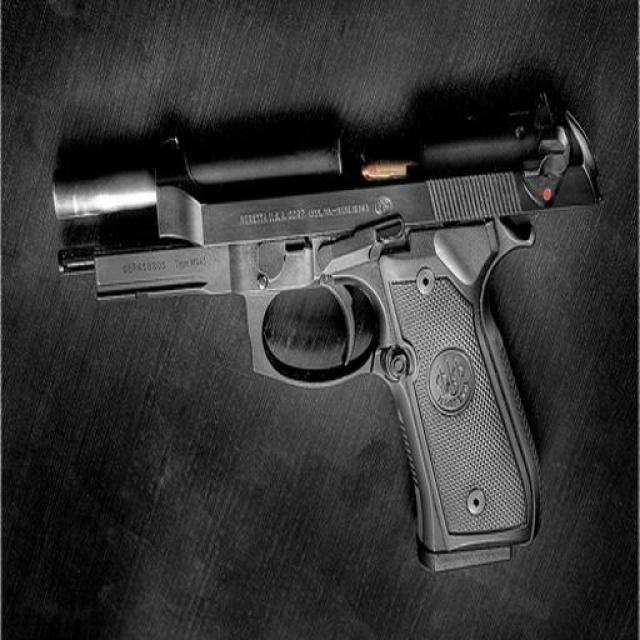pistol: (48, 111, 603, 585)
